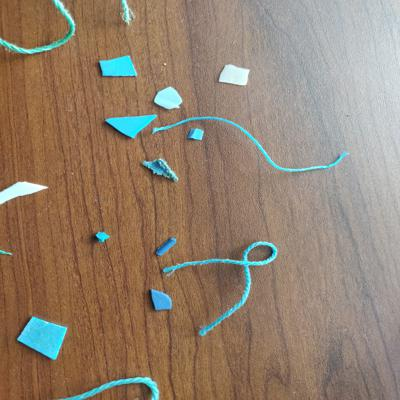plastic: (13, 312, 70, 362), (103, 110, 161, 142), (1, 176, 54, 209), (93, 51, 139, 82), (216, 59, 256, 91), (145, 287, 180, 316), (148, 86, 186, 111), (154, 234, 179, 258), (93, 227, 113, 247), (187, 127, 204, 143)
thread: (163, 233, 282, 341), (149, 116, 355, 176), (1, 1, 135, 59), (52, 371, 170, 400)
